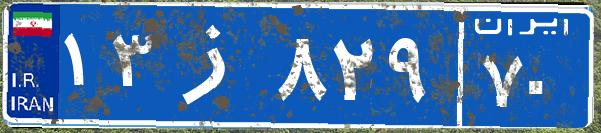0: (525, 38, 570, 115)
1: (57, 26, 110, 107)
2: (330, 28, 385, 110)
3: (110, 28, 158, 105)
7: (475, 38, 525, 113)
8: (273, 28, 330, 110)
9: (385, 28, 445, 110)
ز: (158, 15, 273, 115)
